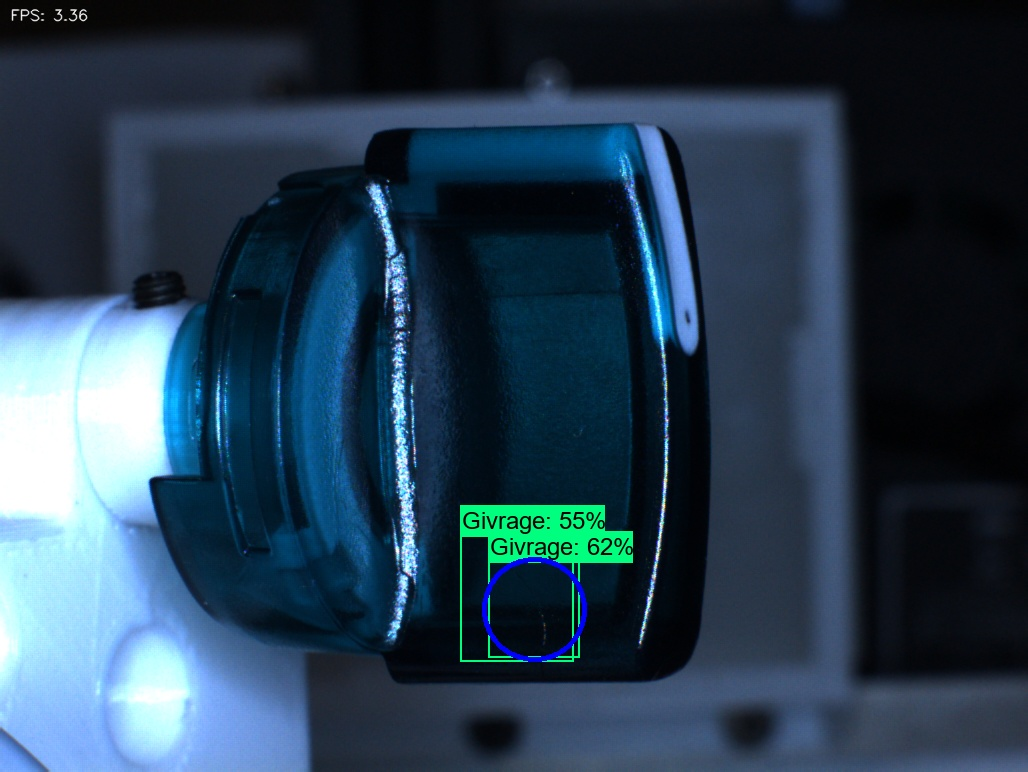PointNoir: (659, 278, 727, 355)
